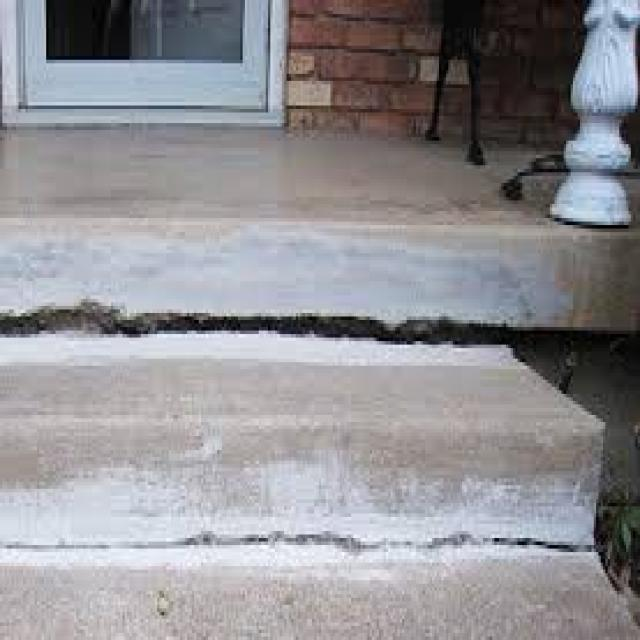Crack: (0, 288, 506, 348)
